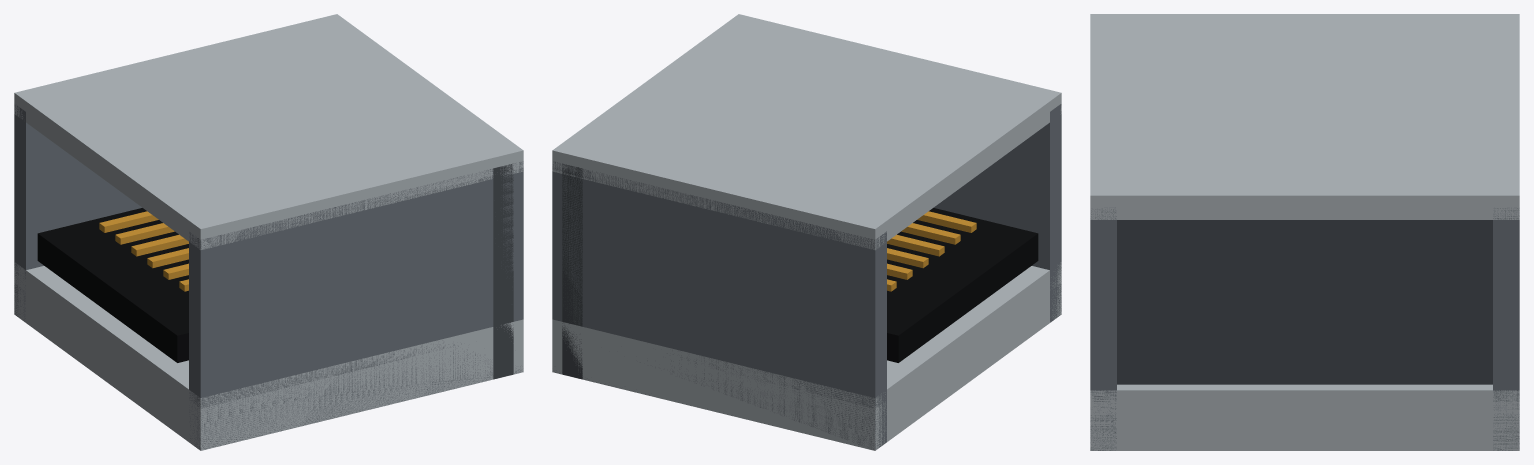
File: L131_HDMI1.fbx
3 views of the same model, side by side, from view 1: azimuth 30°, elevation 25°; view 2: azimuth 150°, elevation 25°; view 3: azimuth 270°, elevation 25° (orthographic). The views are drawn at different scales.
Parts seen in each view (by area): view 1: HDMI1_Silver, HDMI1_Steel, HDMI1_Black, HDMI1_Gray, HDMI1_Gold; view 2: HDMI1_Silver, HDMI1_Steel, HDMI1_Black, HDMI1_Gray, HDMI1_Gold; view 3: HDMI1_Silver, HDMI1_Gray, HDMI1_Steel.
Boxes of the visible parts, x1=… form: HDMI1_Silver: x1=14, y1=14, x2=523, y2=450; HDMI1_Steel: x1=14, y1=104, x2=523, y2=450; HDMI1_Black: x1=37, y1=208, x2=188, y2=362; HDMI1_Gray: x1=493, y1=164, x2=513, y2=379; HDMI1_Gold: x1=99, y1=211, x2=188, y2=291; HDMI1_Silver: x1=552, y1=14, x2=1061, y2=450; HDMI1_Steel: x1=552, y1=104, x2=1061, y2=450; HDMI1_Black: x1=887, y1=208, x2=1038, y2=362; HDMI1_Gray: x1=562, y1=164, x2=582, y2=379; HDMI1_Gold: x1=887, y1=211, x2=976, y2=291; HDMI1_Silver: x1=1090, y1=14, x2=1519, y2=450; HDMI1_Gray: x1=1117, y1=220, x2=1492, y2=384; HDMI1_Steel: x1=1090, y1=207, x2=1519, y2=450.
Size of the model in its own units: 1.6 by 1.05 by 1.6.
